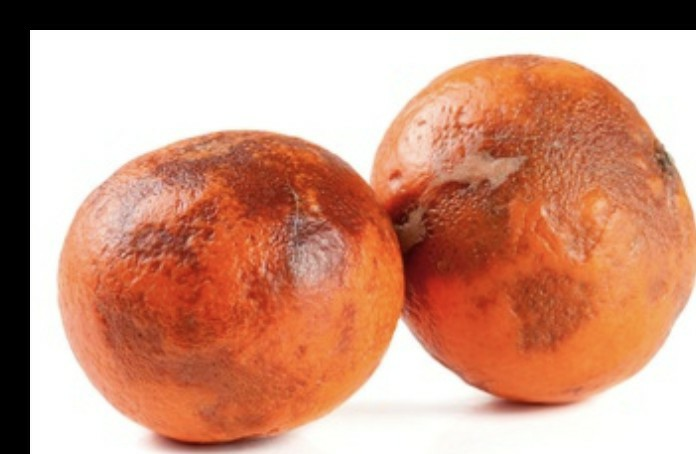rotten_orange: (379, 56, 696, 403), (61, 126, 402, 443)
